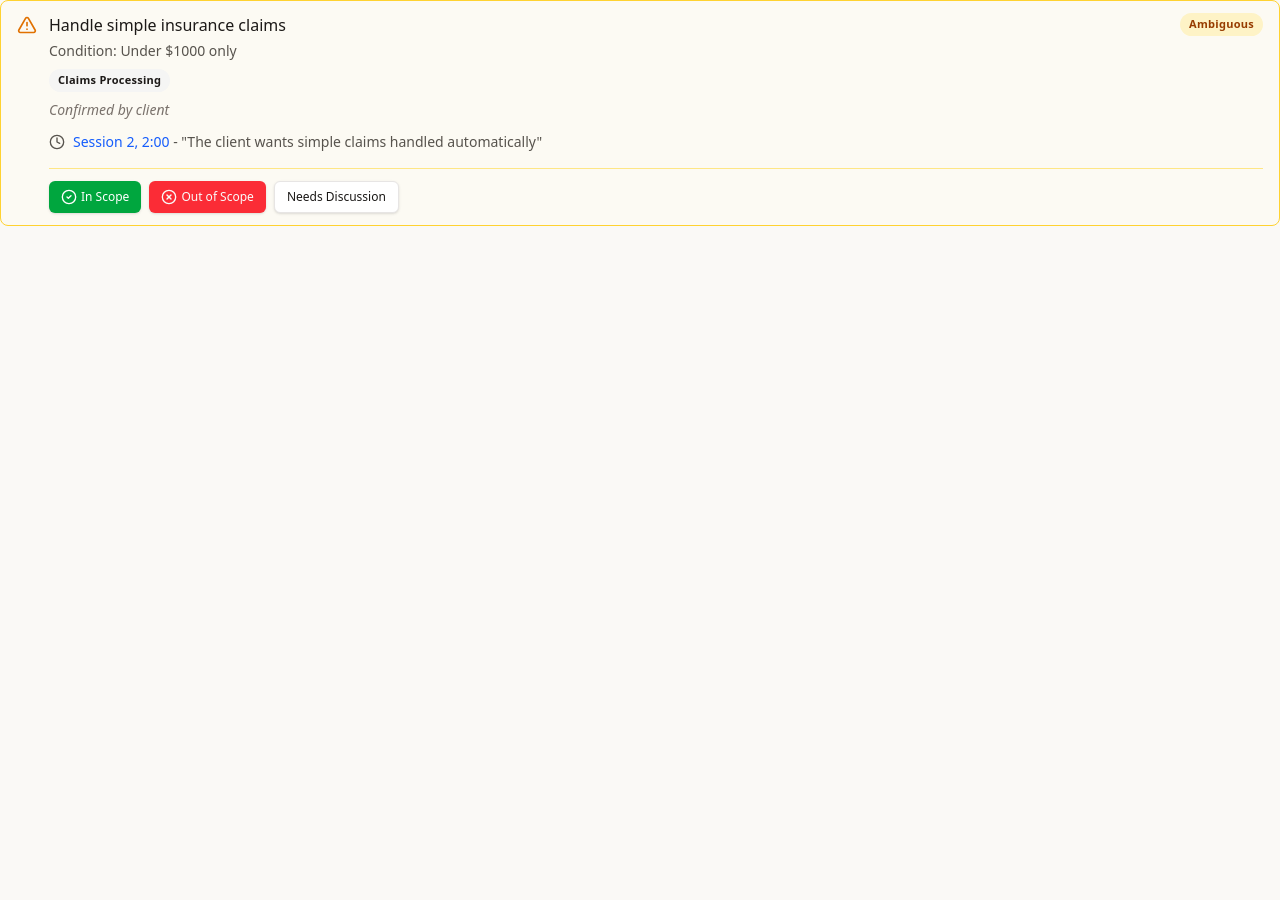
Test: ScopeItemCard › opens resolve dialog when "Needs Discussion" is clicked
This screenshot has width=1280, height=900.
Click the button "Needs Discussion" at (336, 196), box [274,180,399,212]
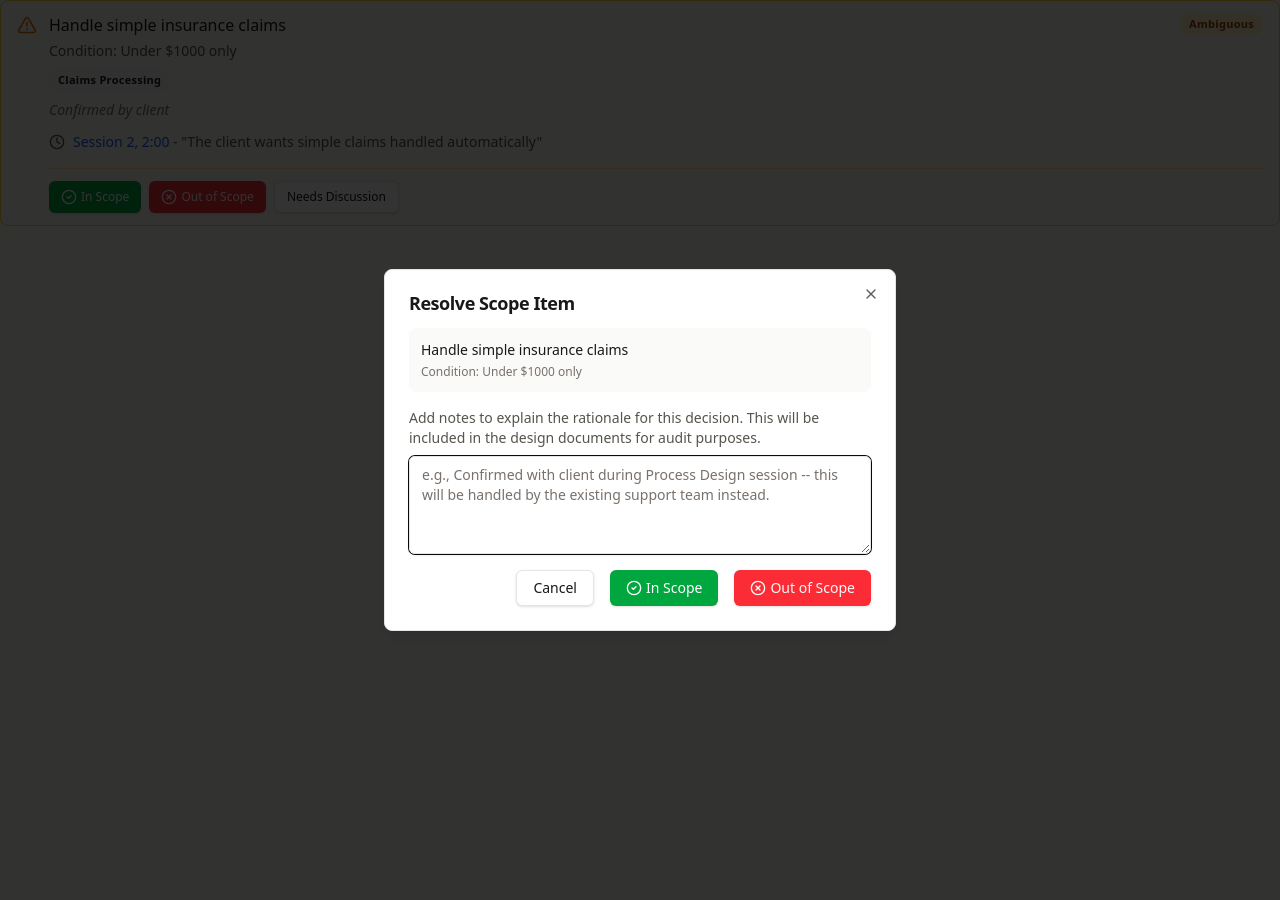
Now the heading "Resolve Scope Item" is shown, box [409,291,575,315]
